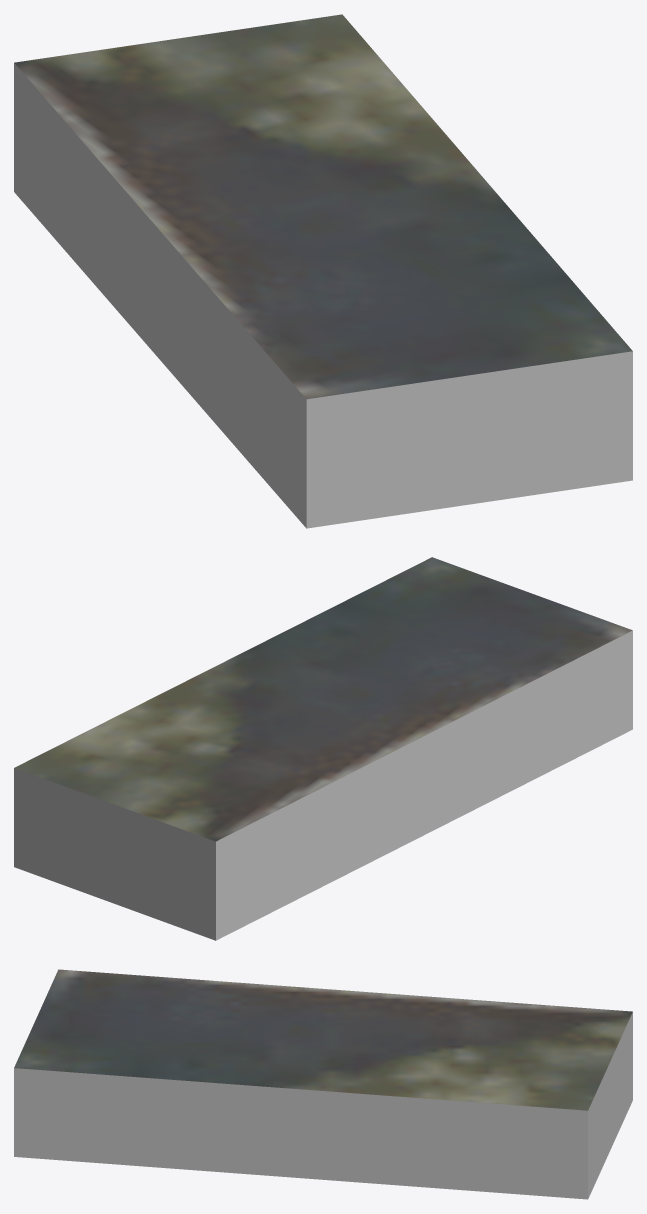
The model's file is DEBW_0010007Txh5.gltf.
3 renders of one model, top to bottom at view 1: azimuth 30°, elevation 25°; view 2: azimuth 150°, elevation 25°; view 3: azimuth 270°, elevation 25°, orthographic. The views are drawn at different scales.
Parts seen in each view (by area): view 1: Z_UP; view 2: Z_UP; view 3: Z_UP.
Boxes of the visible parts, x1,y1,x2,y2 form: Z_UP: (14,14,632,528); Z_UP: (14,557,632,940); Z_UP: (14,969,632,1199).
Size of the model in its own units: 7.75 by 2.27 by 14.35.
Materials: 2 (1 with a texture image).
